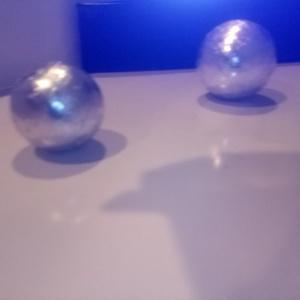alive_ball: (11, 61, 104, 153), (198, 19, 277, 101)
